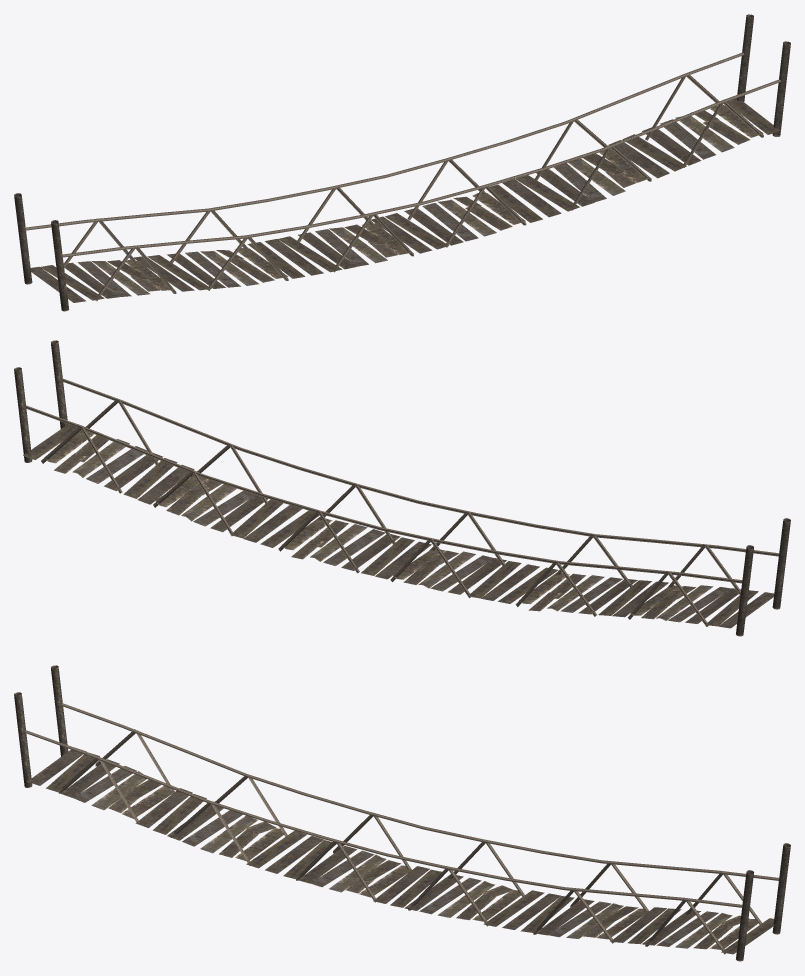
File: Scaffolding_BridgeMedium.fbx
3 views of the same model, one above another, from view 1: azimuth 30°, elevation 25°; view 2: azimuth 150°, elevation 25°; view 3: azimuth 330°, elevation 25° (orthographic).
Visible parts, largest first — view 1: CDTMesh_Scaffolding_BridgeMedium_LOD; view 2: CDTMesh_Scaffolding_BridgeMedium_LOD; view 3: CDTMesh_Scaffolding_BridgeMedium_LOD.
Part boxes in pixels (left/top/right/bottom): CDTMesh_Scaffolding_BridgeMedium_LOD: left=14, top=14, right=790, bottom=311; CDTMesh_Scaffolding_BridgeMedium_LOD: left=14, top=340, right=790, bottom=636; CDTMesh_Scaffolding_BridgeMedium_LOD: left=14, top=665, right=790, bottom=961.
Bounding box in the file's own units: 30.87 × 4.88 × 3.49.
